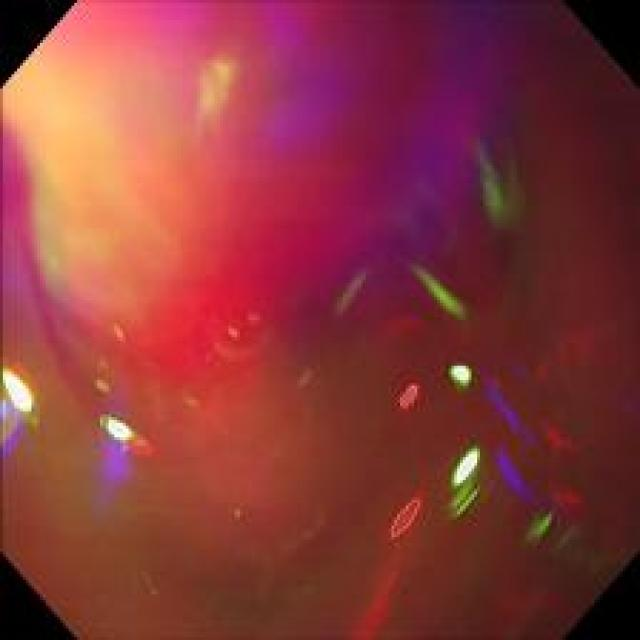color misalignment: (8, 16, 626, 629), (191, 256, 364, 542), (15, 6, 292, 156), (381, 245, 489, 549), (492, 360, 614, 564), (72, 300, 176, 532), (454, 119, 541, 268), (6, 329, 42, 478)
